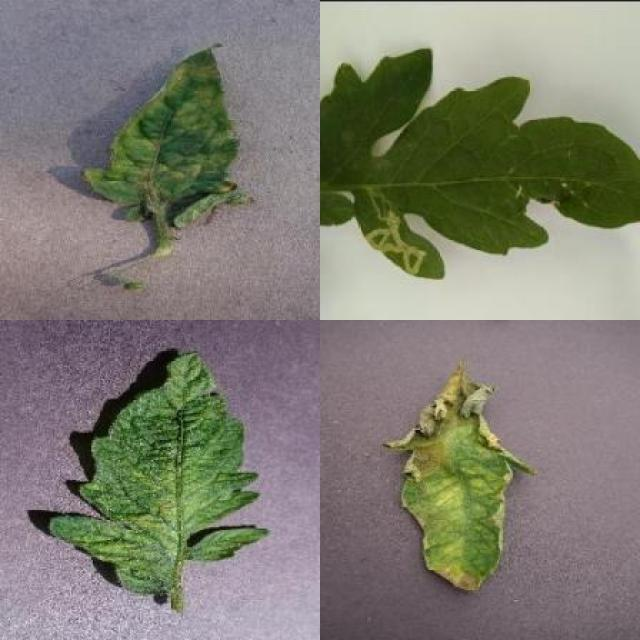Late Blight: (385, 363, 538, 594)
Leaf Miner: (320, 47, 639, 283)
Leaf Mold: (83, 42, 258, 232)
Mosaic Virus: (48, 348, 272, 598)
